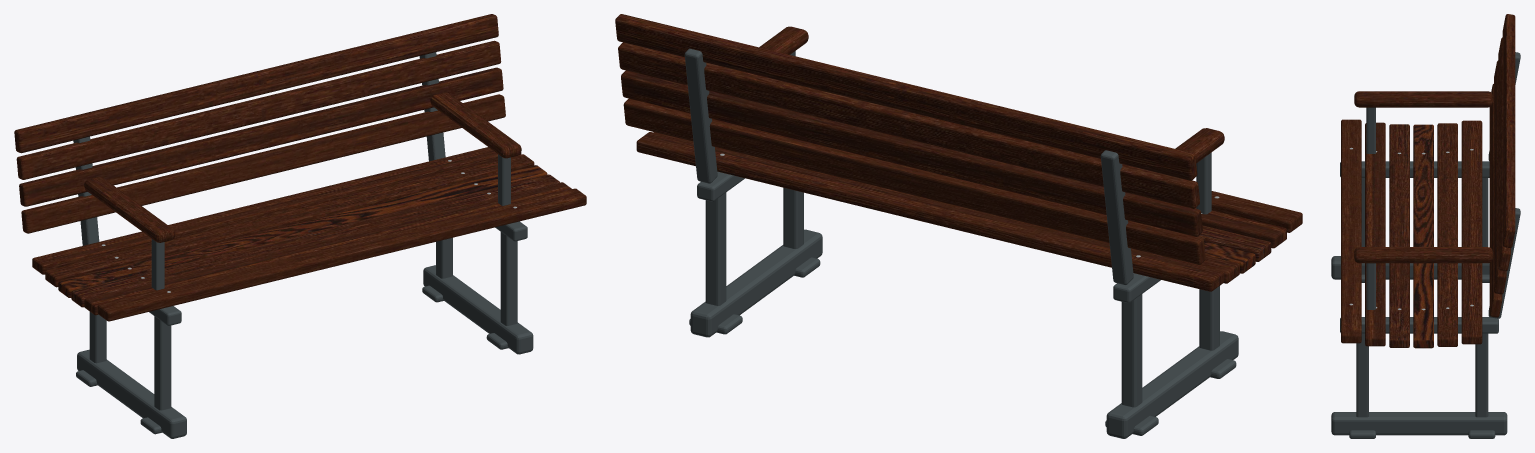
The model's file is coastal-bench.glb.
3 views of the same model, side by side, from view 1: azimuth 30°, elevation 25°; view 2: azimuth 150°, elevation 25°; view 3: azimuth 270°, elevation 25° (orthographic). The views are drawn at different scales.
Visible parts, largest first — view 1: bench_visual; view 2: bench_visual; view 3: bench_visual.
Part boxes in pixels (<box>): bench_visual: <box>14,14,586,438</box>; bench_visual: <box>615,14,1302,438</box>; bench_visual: <box>1331,14,1520,438</box>.
Bounding box in the file's own units: 1.8 × 0.9086 × 0.6664.
Materials: 3 (1 with a texture image).
